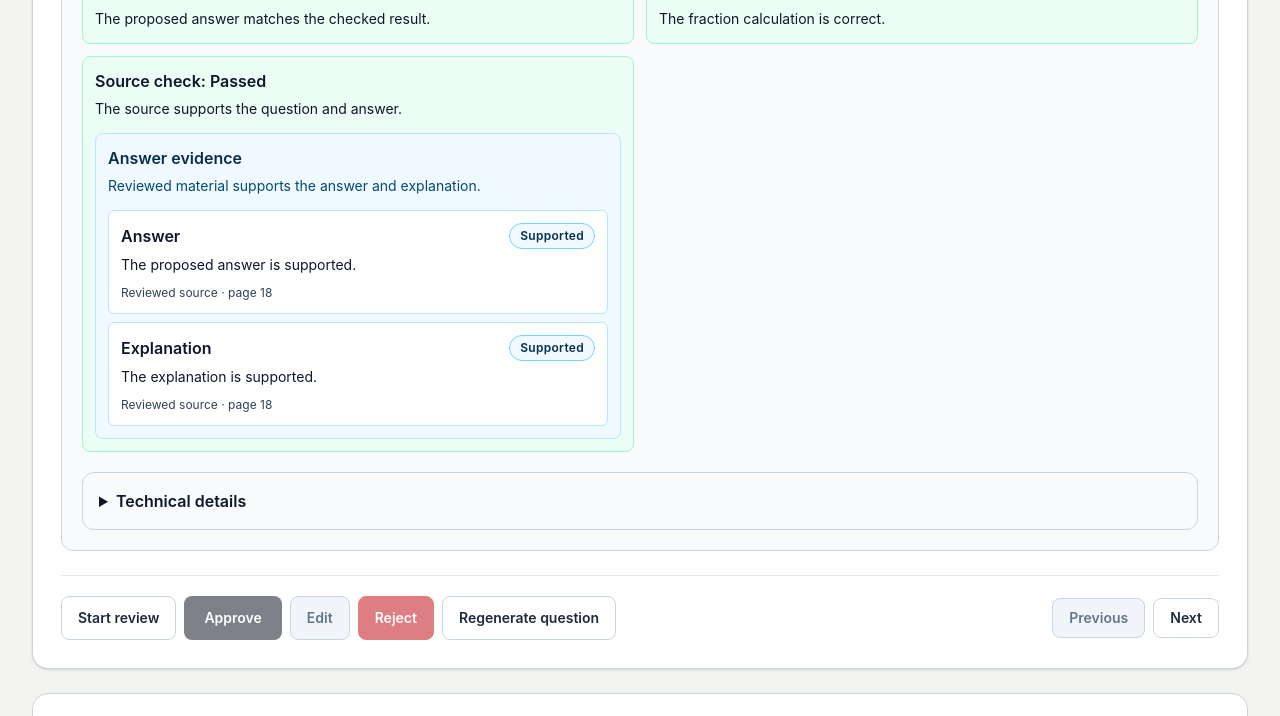
Test case: ReviewApproveStudio › traps initial focus and closes review dialogs with Escape
(page scrolled)
Click the button "Start review" at coordinates (119, 618), box [61, 596, 176, 640]
(page scrolled)
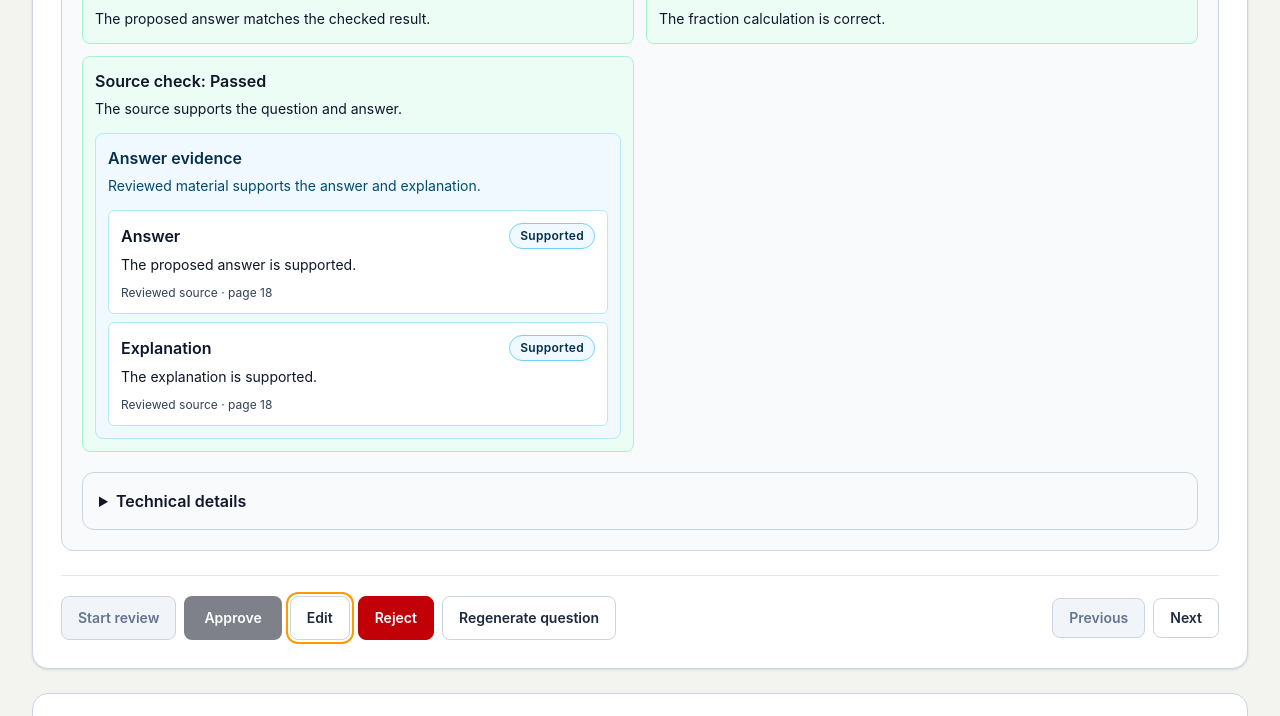
Click the button "Edit" at coordinates (320, 618), box [290, 596, 350, 640]
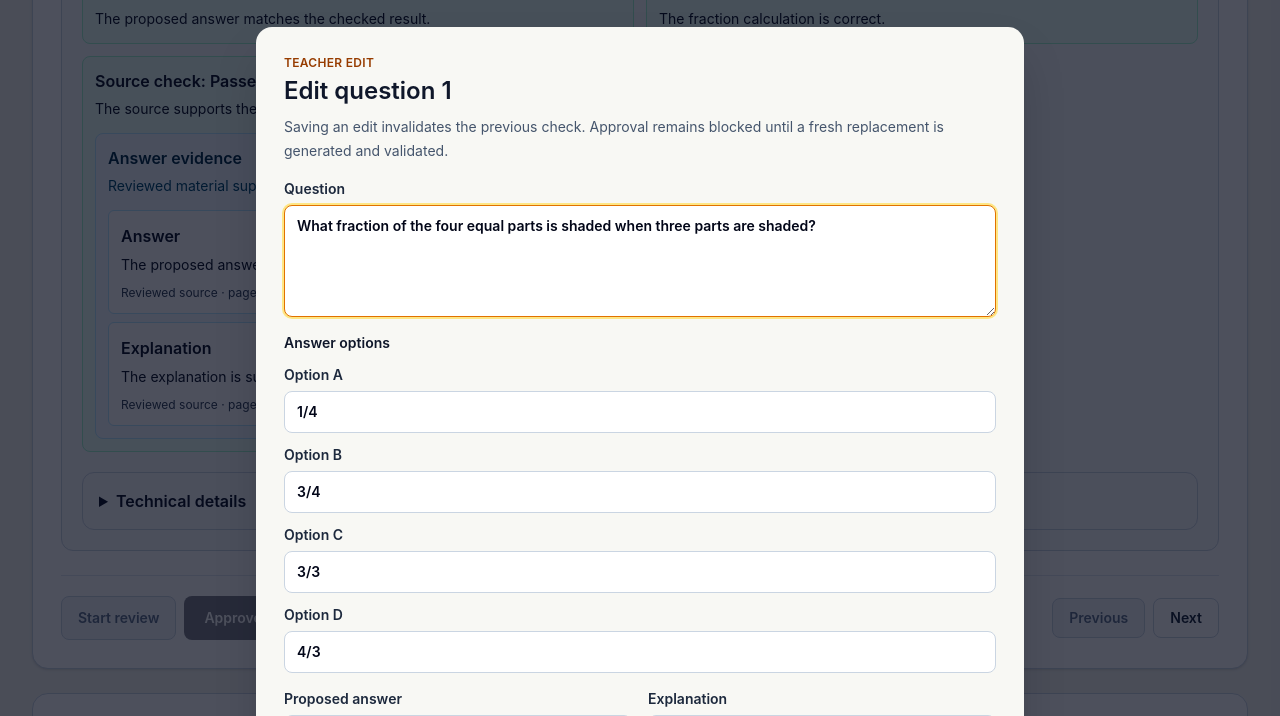
Press Escape
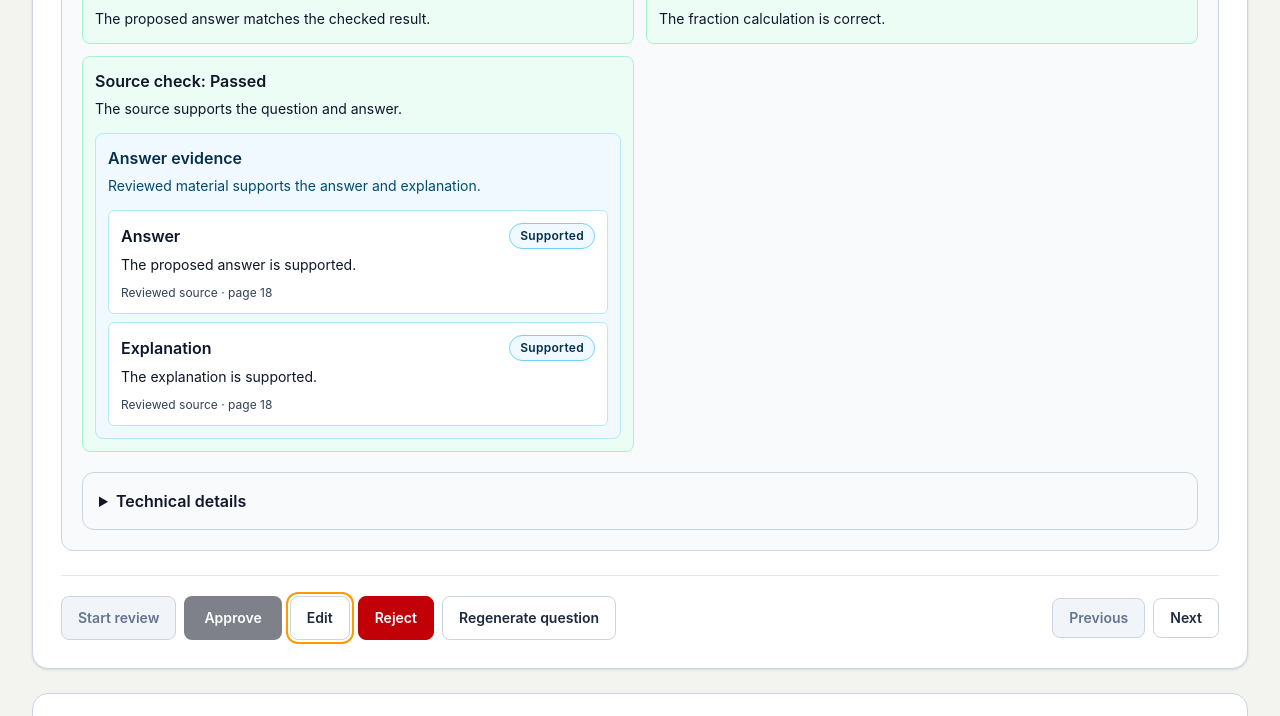
Now the heading "Edit question 1" is gone
